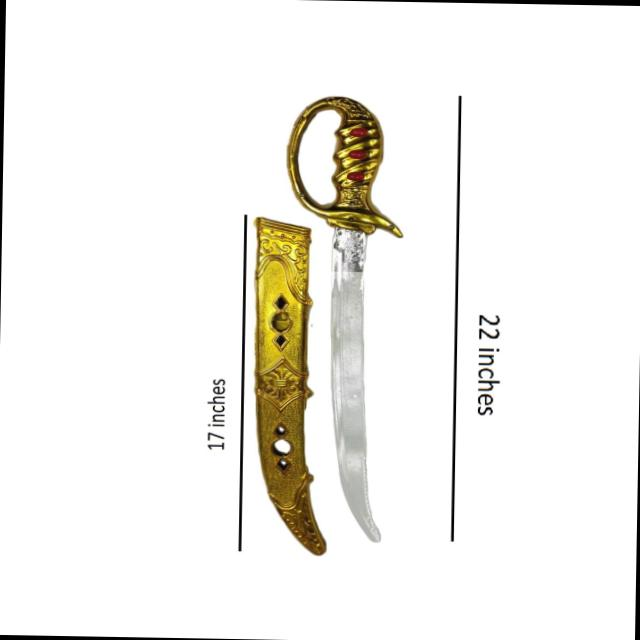Weapon: (273, 92, 412, 547)
